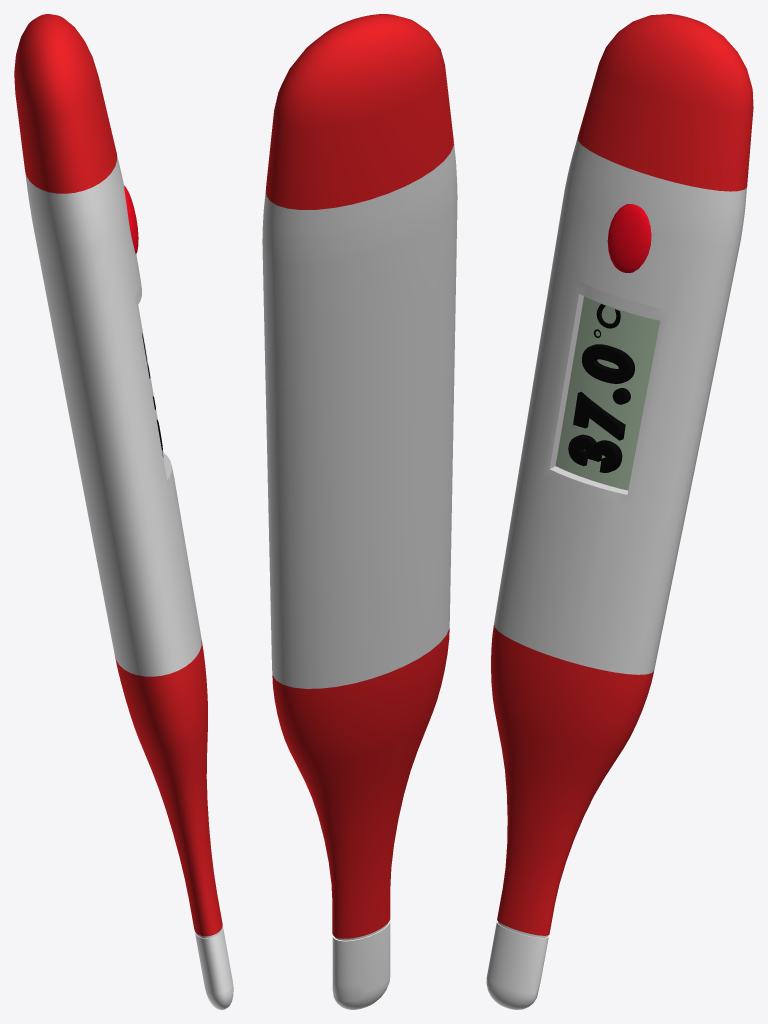
The model's file is Termometer.glb.
The picture shows the model from 3 angles, left to right: view 1: azimuth 30°, elevation 25°; view 2: azimuth 150°, elevation 25°; view 3: azimuth 270°, elevation 25°; orthographic projection. The views are drawn at different scales.
Visible parts, largest first — view 1: Cylinder.032; view 2: Cylinder.032; view 3: Cylinder.032, Text, Cylinder.033.
Part boxes in pixels (x1,y1,x2,y2): Cylinder.032: (14,14,233,1009); Cylinder.032: (262,14,457,1009); Cylinder.032: (486,14,753,1009); Text: (568,344,634,472); Cylinder.033: (607,204,651,272).
Size of the model in its own units: 0.9783 by 6.01 by 1.54.
